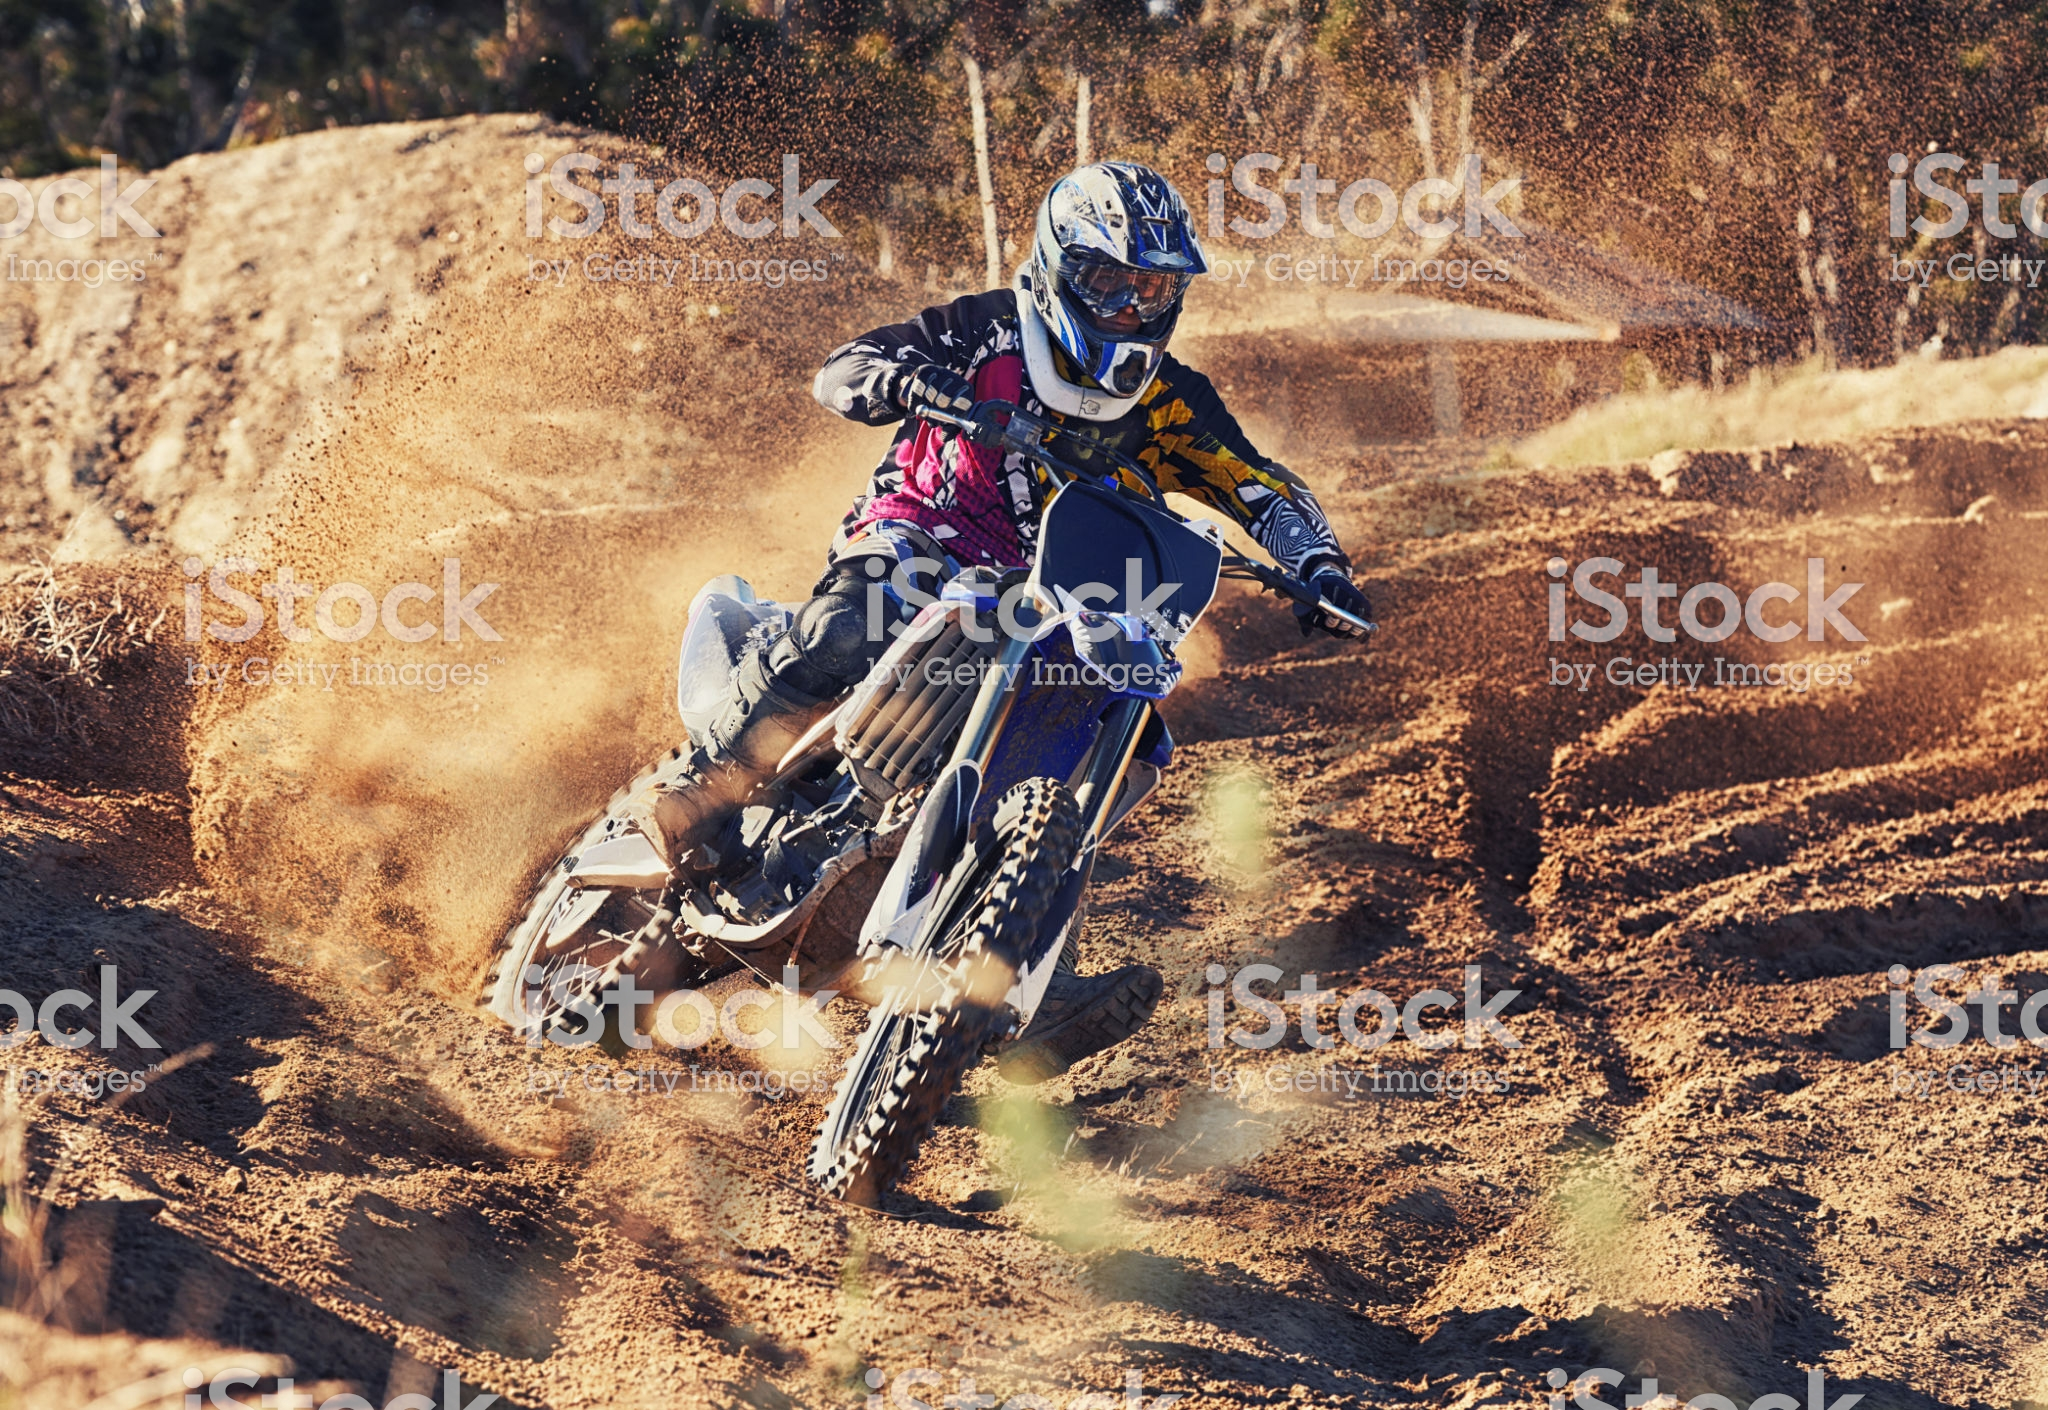helmet: (1030, 145, 1197, 403)
